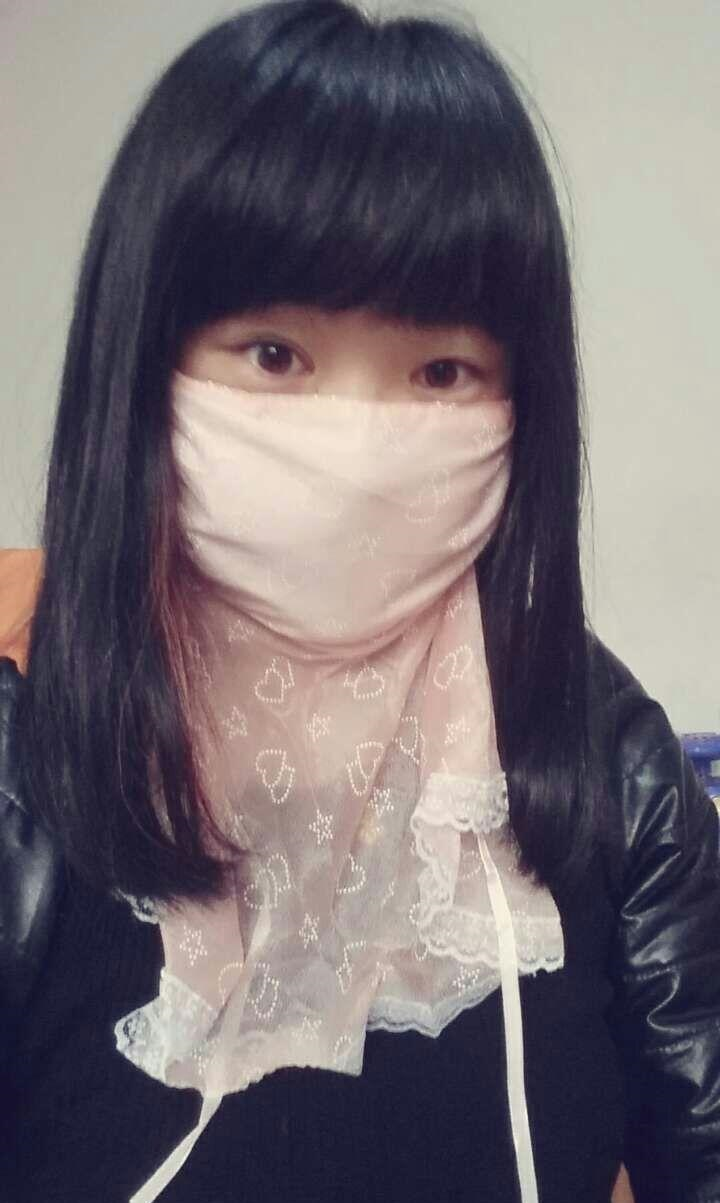face_mask: (166, 235, 517, 656)
